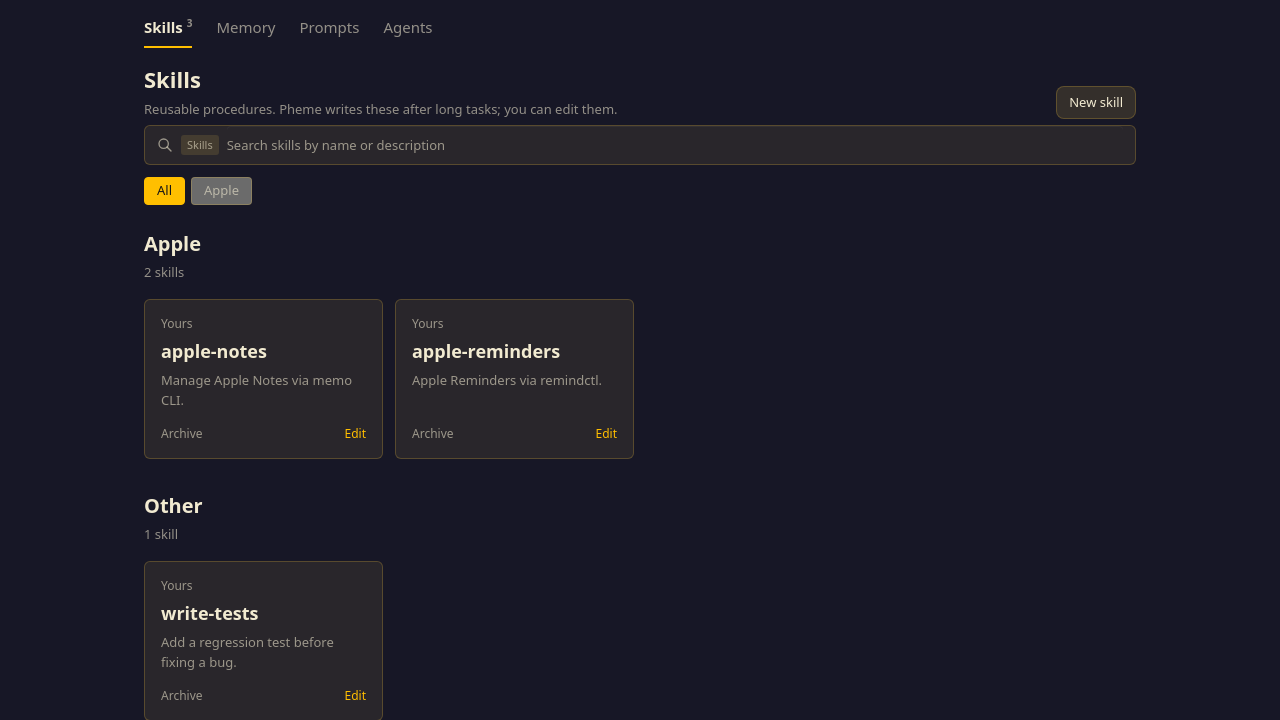
Test case: Capabilities page › archives a skill from its card after confirming, and keeps the curator button
Later steps or results of the test are not shown.
Click the button with aria-label "Archive write-tests" at (182, 696), box [161,688,202,704]
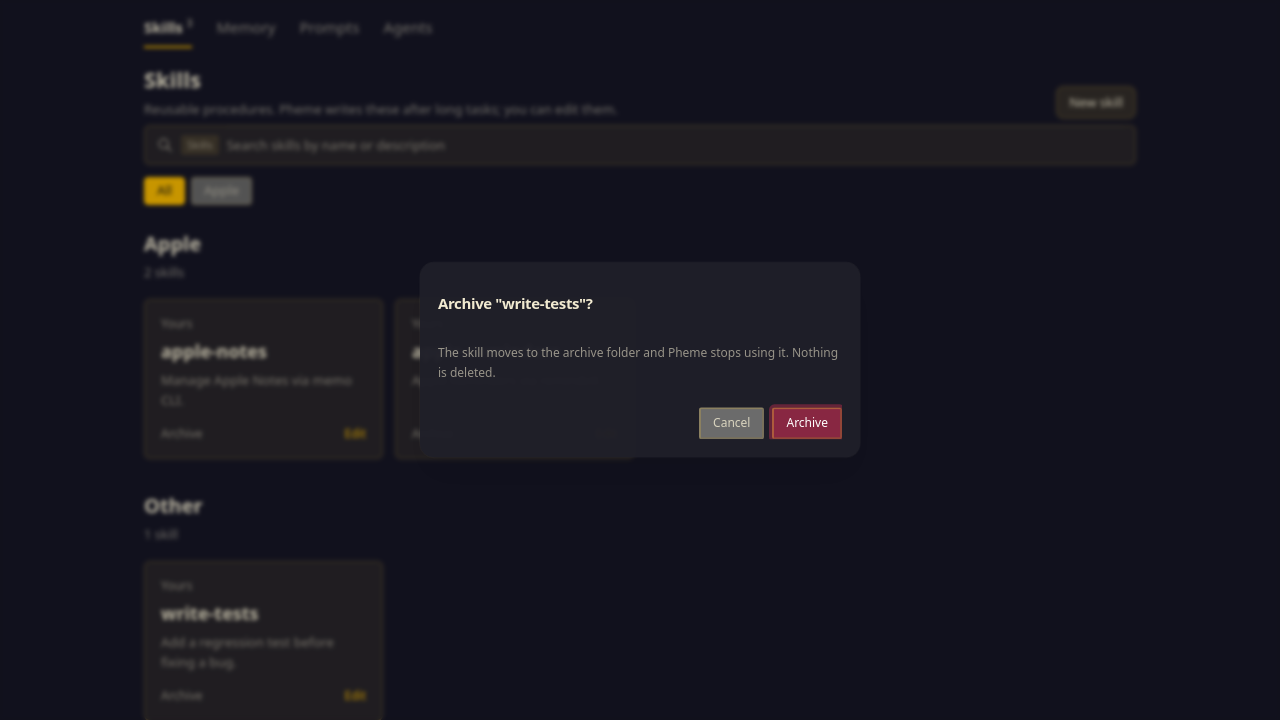
Expected: the heading "Archive \"write-tests\"?" is shown, [438,294,593,314]
